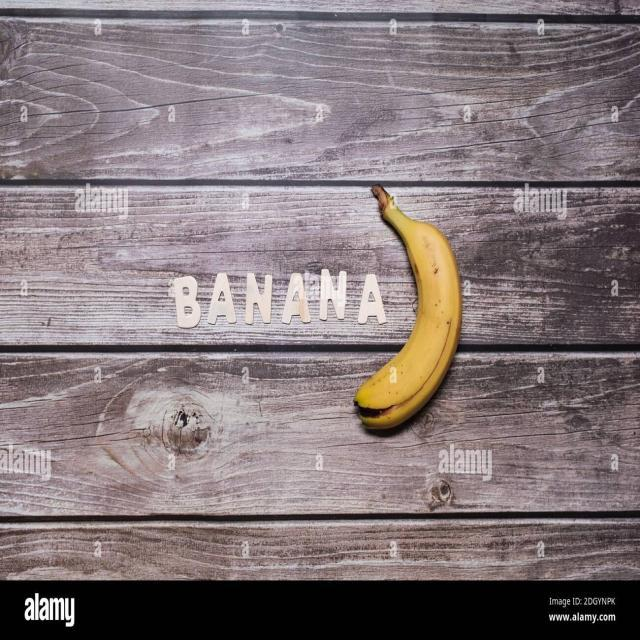banana: (353, 176, 467, 442)
